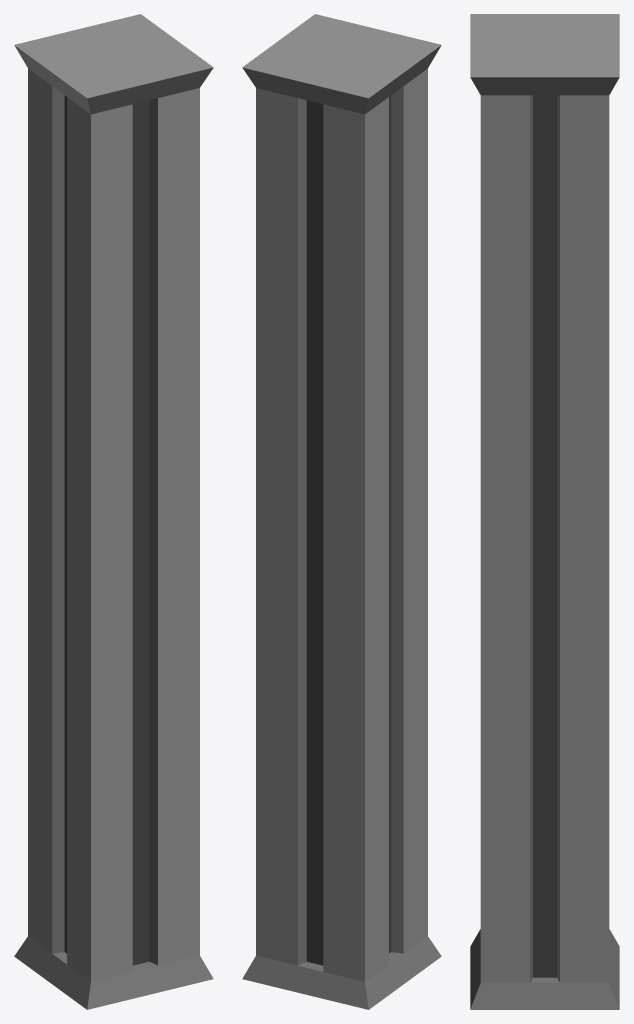
File: InsetPillar.glb
3 renders of one model, left to right at view 1: azimuth 30°, elevation 25°; view 2: azimuth 150°, elevation 25°; view 3: azimuth 270°, elevation 25°, orthographic. The views are drawn at different scales.
Visible parts, largest first — view 1: brute_pillar_inset; view 2: brute_pillar_inset; view 3: brute_pillar_inset.
Boxes of the visible parts, x1=… form: brute_pillar_inset: x1=14, y1=14, x2=213, y2=1009; brute_pillar_inset: x1=242, y1=14, x2=441, y2=1009; brute_pillar_inset: x1=470, y1=14, x2=619, y2=1009.
Size of what is drawn, in the model's own units: 0.5814 by 4 by 0.5814.
1 material, 1 textured.
